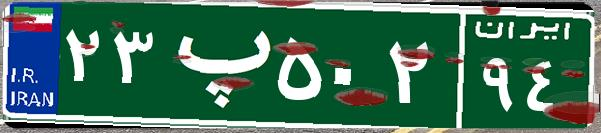0: (330, 28, 385, 110)
2: (385, 28, 445, 110), (57, 26, 110, 107)
3: (110, 28, 158, 105)
4: (525, 38, 570, 115)
5: (273, 28, 330, 110)
9: (475, 38, 525, 113)
پ: (158, 15, 273, 115)
